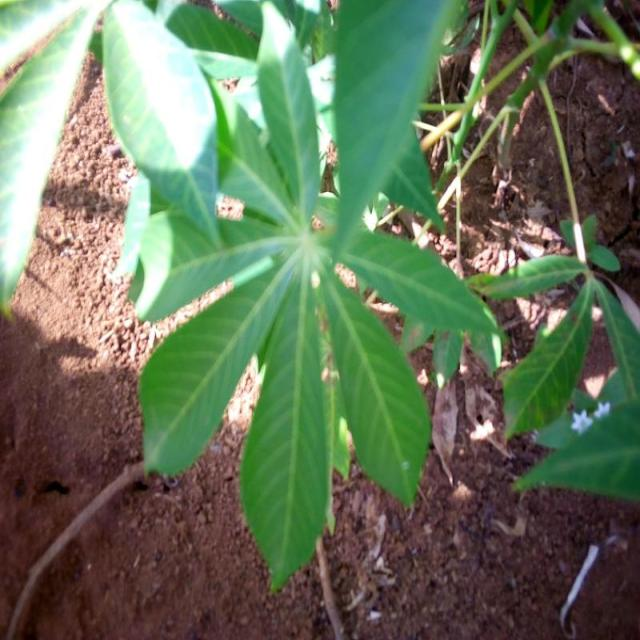cassava leaf: (101, 0, 502, 592)
